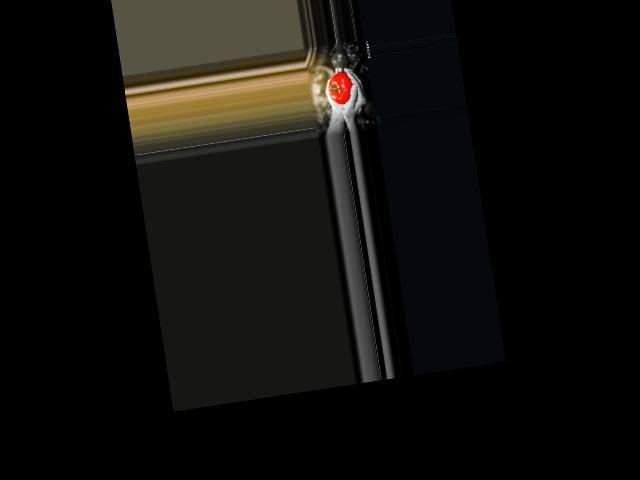tomato: (326, 71, 355, 106)
